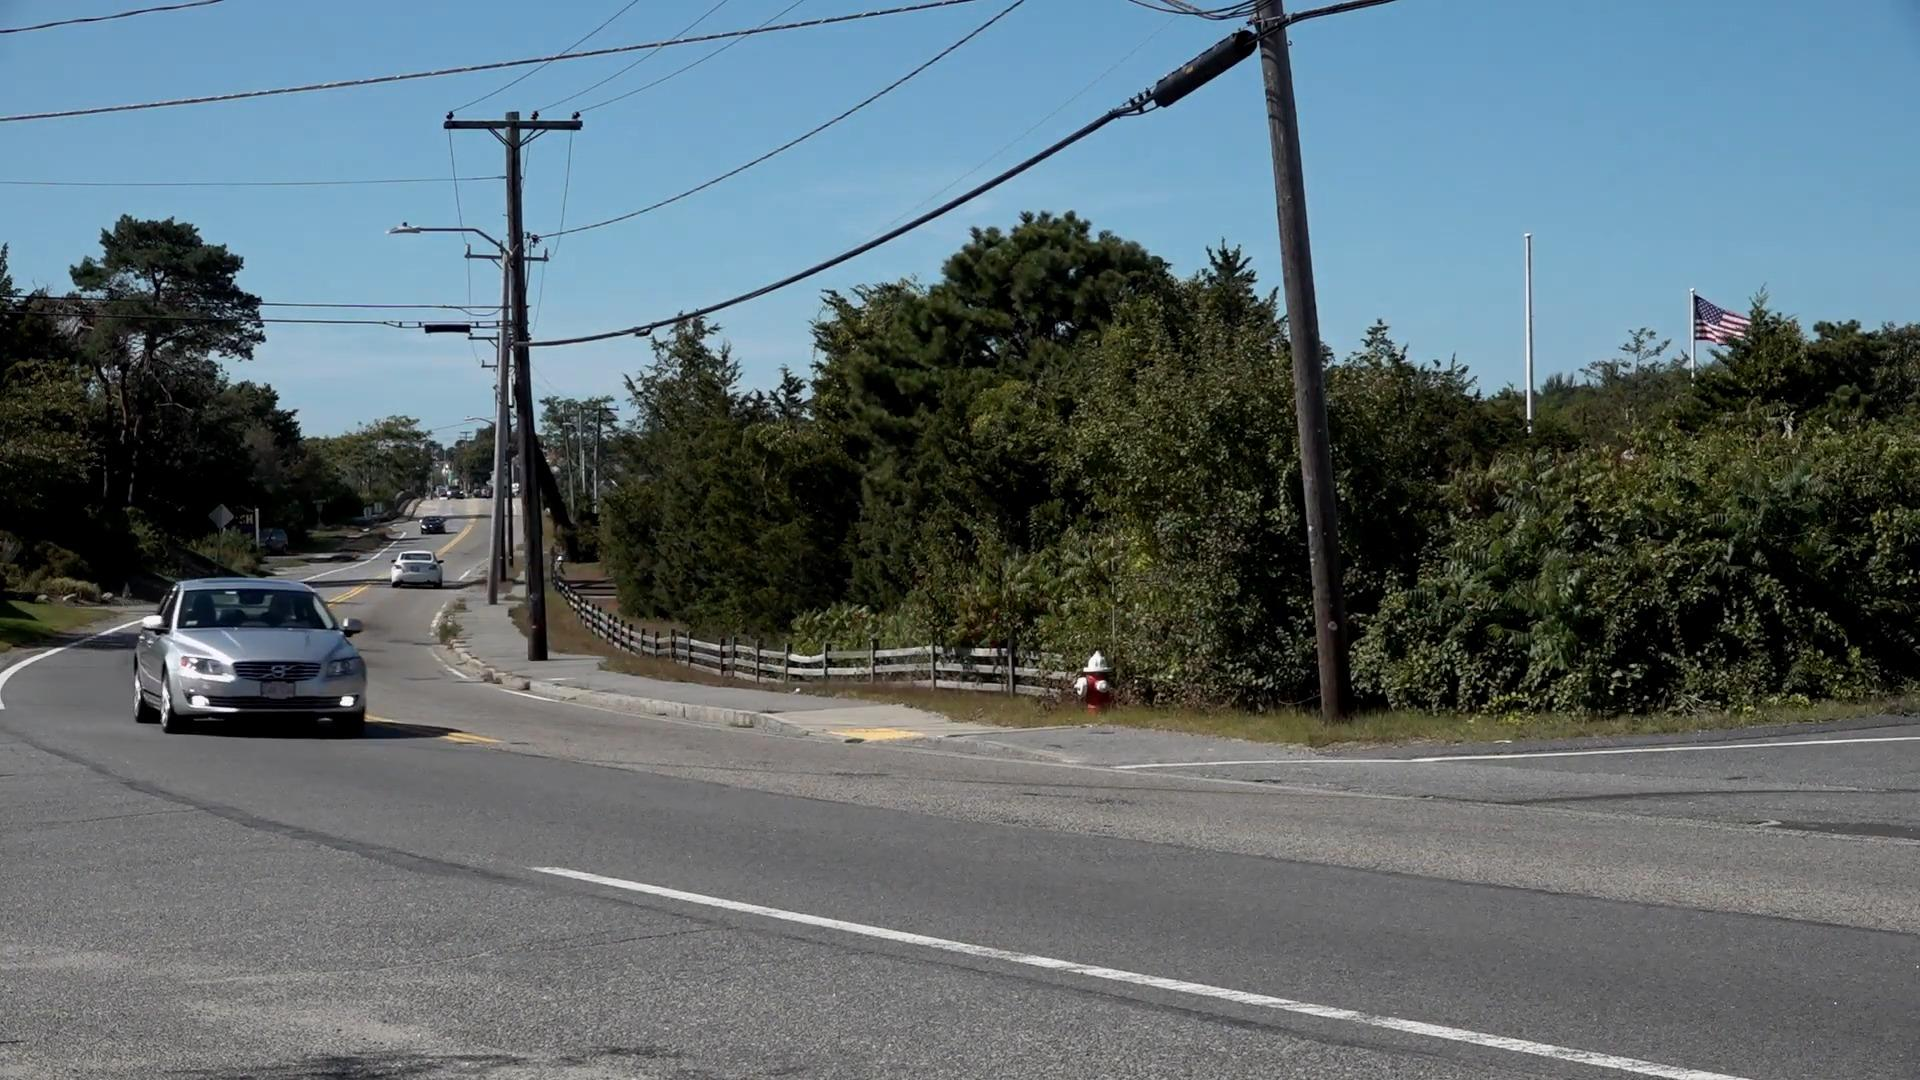sedans: (128, 579, 368, 735)
